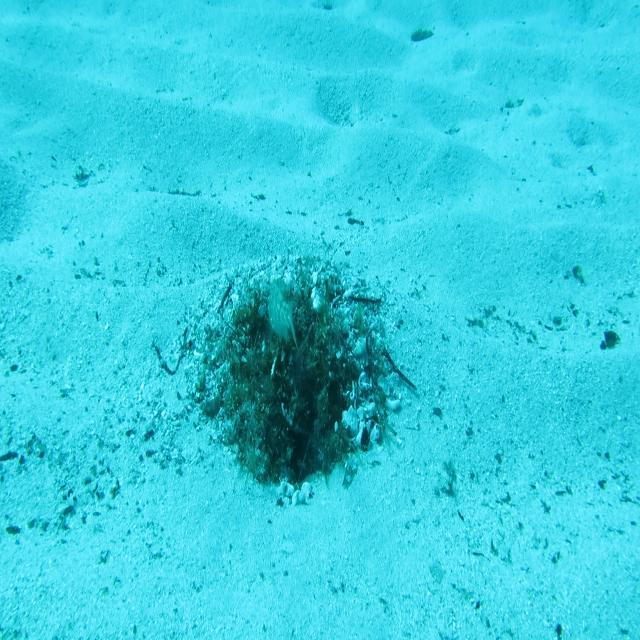NIP_CORE: (262, 276, 302, 352)
core_nest: (258, 308, 314, 348)
nest: (169, 240, 407, 523)
vegetation: (409, 26, 434, 42)
